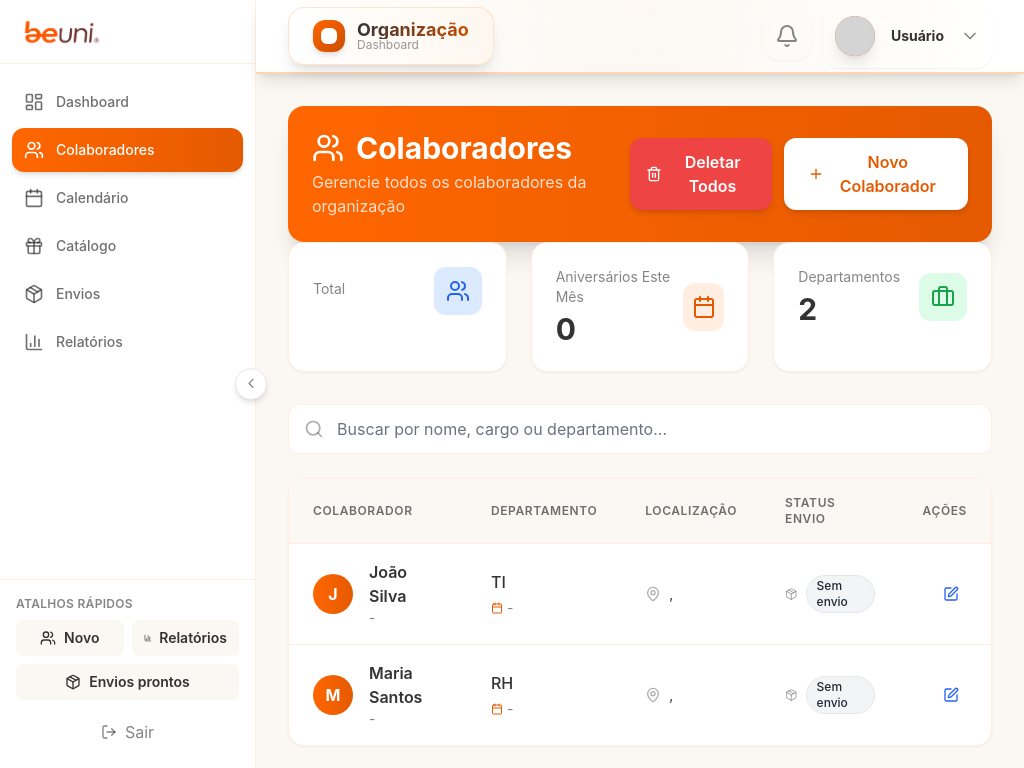
ColaboradoresPage - Delete All Functionality › should cancel deletion when cancel is clicked
# Open modal
Click the button "Deletar Todos".
click(701, 174)  # box x1=630 y1=138 x2=772 y2=210
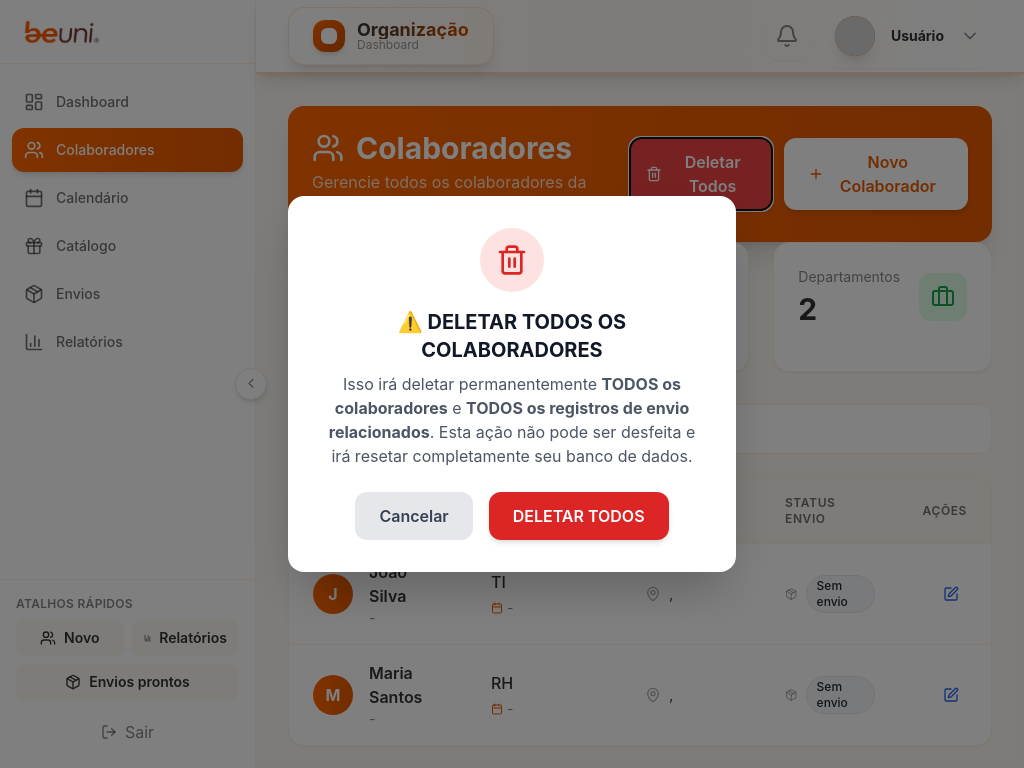
# Click cancel
Click the button "Cancelar".
click(414, 516)  # box x1=355 y1=492 x2=473 y2=540
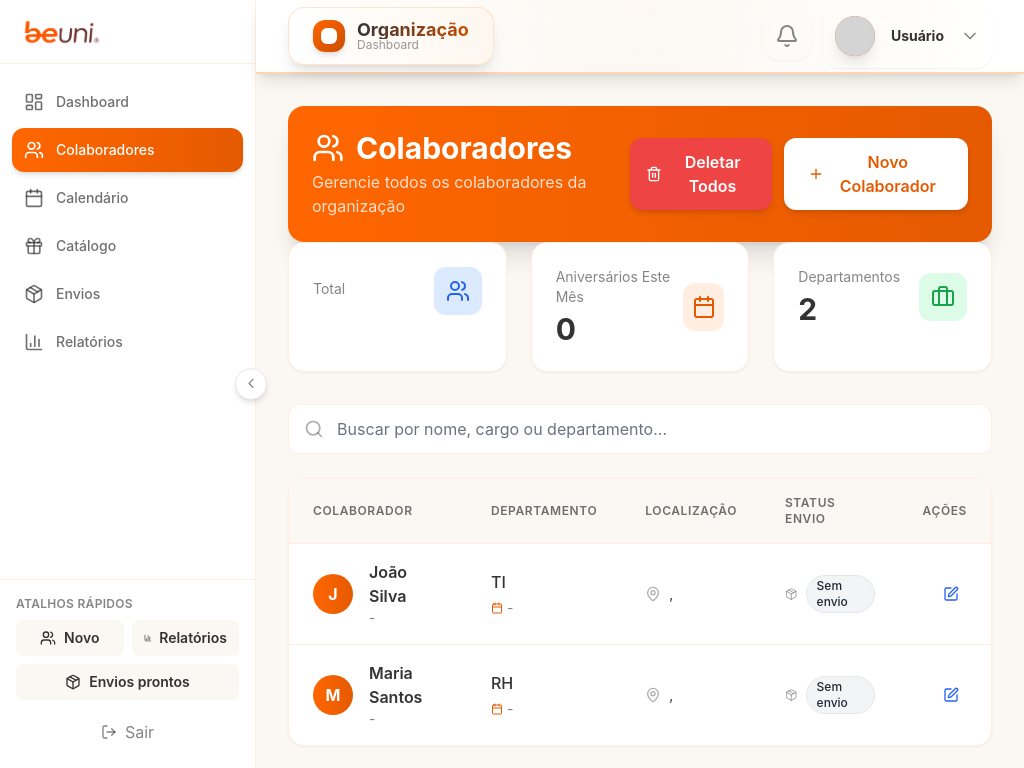
Expected: the heading "⚠️ DELETAR TODOS OS COLABORADORES" is gone
